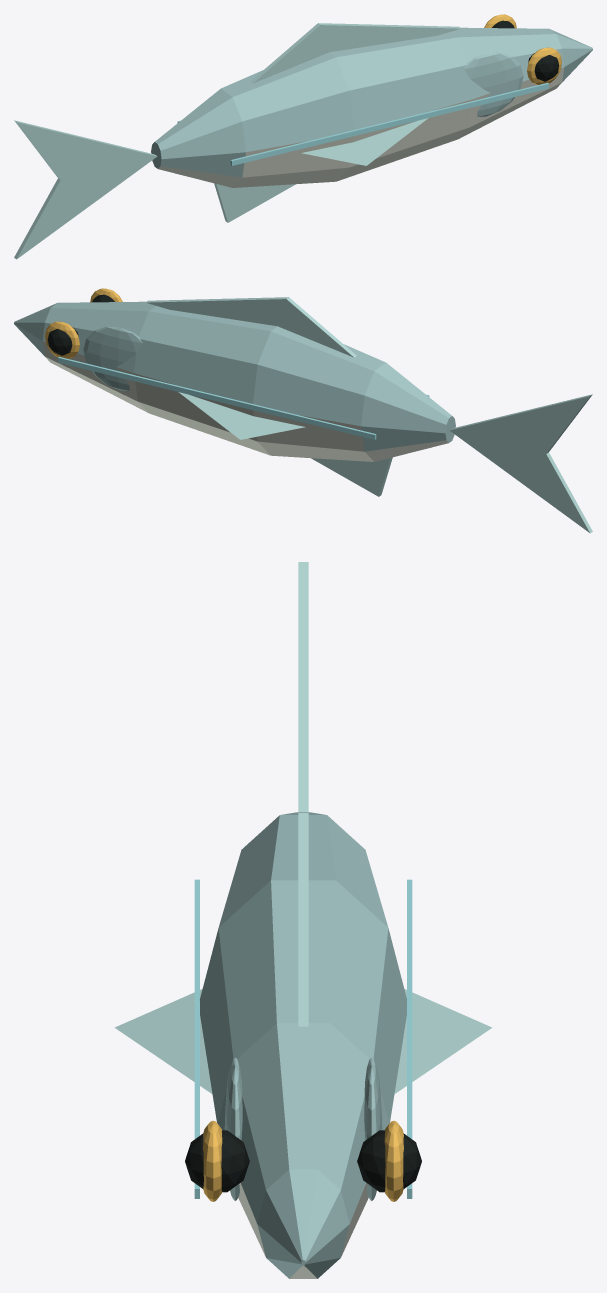
Rendered from minnow.glb.
3 renders of one model, top to bottom at view 1: azimuth 30°, elevation 25°; view 2: azimuth 150°, elevation 25°; view 3: azimuth 270°, elevation 25°, orthographic. The views are drawn at different scales.
Parts seen in each view (by area): view 1: minnow_Body, Dorsal.001, TailFinLower.001, TailFin.001, Gill_plate.002, Lateral_stripe, Pectoral.002, Anal_fin.001, Iris_rim.002, Eye.002; view 2: minnow_Body, Dorsal.001, TailFinLower.001, TailFin.001, Gill_plate.003, Lateral_stripe.001, Pectoral.003, Anal_fin.001, Iris_rim.003, Eye.003; view 3: minnow_Body, Pectoral.002, Pectoral.003, TailFin.001, Dorsal.001, Eye.002, Eye.003, Lateral_stripe, Lateral_stripe.001, Iris_rim.002, Iris_rim.003, Gill_plate.002 (+1 smaller).
Part boxes in pixels (<box>): minnow_Body: <box>151,27,592,187</box>; Dorsal.001: <box>250,23,460,83</box>; TailFinLower.001: <box>14,156,156,259</box>; TailFin.001: <box>14,120,157,179</box>; Gill_plate.002: <box>464,52,523,116</box>; Lateral_stripe: <box>230,83,548,165</box>; Pectoral.002: <box>301,118,428,165</box>; Anal_fin.001: <box>214,183,295,222</box>; Iris_rim.002: <box>527,47,561,84</box>; Eye.002: <box>528,53,558,81</box>; minnow_Body: <box>14,301,455,461</box>; Dorsal.001: <box>146,297,356,357</box>; TailFinLower.001: <box>450,430,592,533</box>; TailFin.001: <box>449,394,592,453</box>; Gill_plate.003: <box>83,326,142,390</box>; Lateral_stripe.001: <box>58,357,376,439</box>; Pectoral.003: <box>178,392,305,439</box>; Anal_fin.001: <box>311,457,392,496</box>; Iris_rim.003: <box>45,321,79,358</box>; Eye.003: <box>48,327,78,355</box>; minnow_Body: <box>200,812,406,1278</box>; Pectoral.002: <box>114,989,212,1093</box>; Pectoral.003: <box>394,989,492,1093</box>; TailFin.001: <box>298,562,308,812</box>; Dorsal.001: <box>298,813,308,1026</box>; Eye.002: <box>185,1130,249,1192</box>; Eye.003: <box>357,1130,421,1192</box>; Lateral_stripe: <box>194,879,199,1198</box>; Lateral_stripe.001: <box>407,879,412,1198</box>; Iris_rim.002: <box>203,1120,222,1201</box>; Iris_rim.003: <box>384,1120,403,1201</box>; Gill_plate.002: <box>224,1057,242,1200</box>.
Bounding box in the file's own units: 2.03 × 0.5896 × 0.576.
